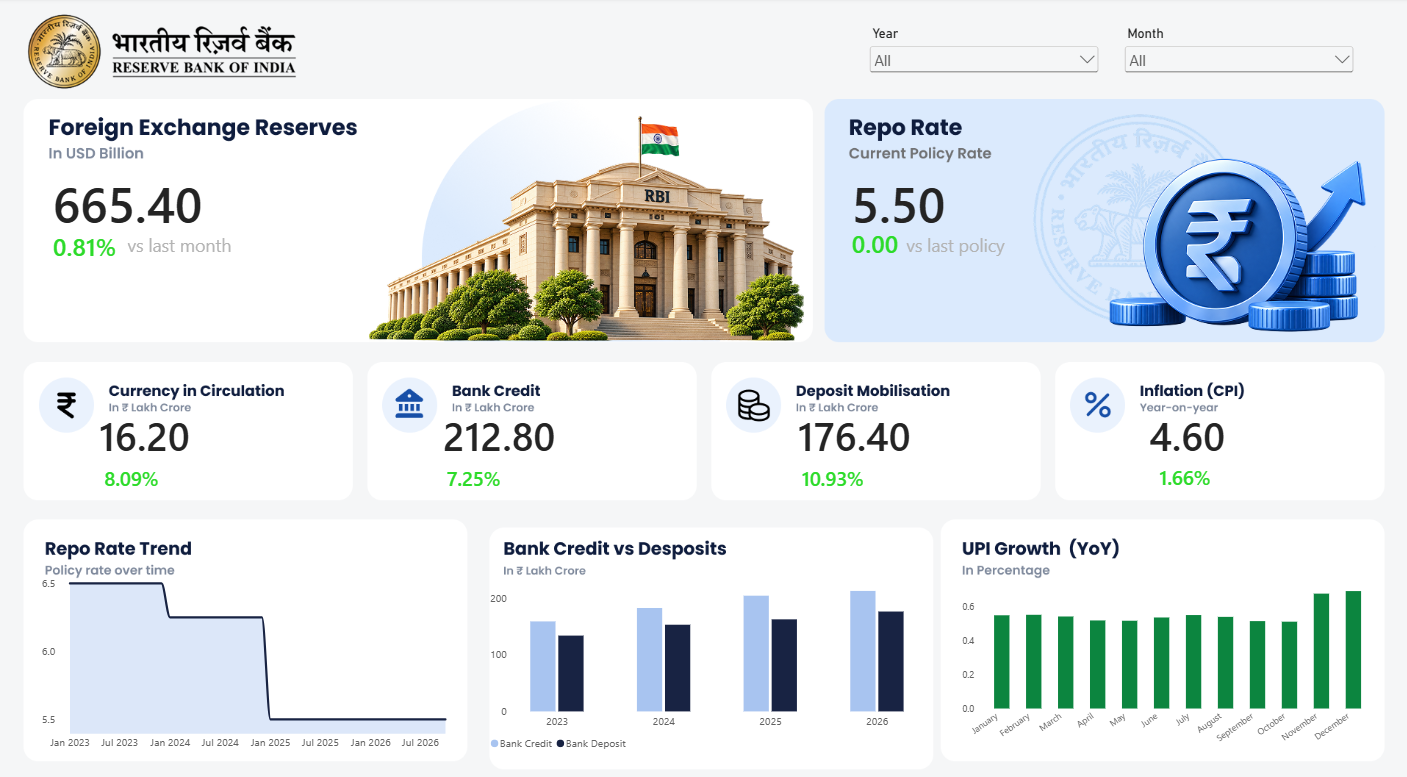

The page's visual inventory and layout, read from the dashboard file:
{"tool":"powerbi","page":{"name":"Page 1","canvas":[1920,1080],"ordinal":0},"visuals":[{"type":"areaChart","fields":{"Category":["Calendar.YearMonth.Variation.Date Hierarchy.Year","Calendar.YearMonth.Variation.Date Hierarchy.Quarter","Calendar.YearMonth.Variation.Date Hierarchy.Month","Calendar.YearMonth.Variation.Date Hierarchy.Day"],"Y":["FactEconomic.Repo Rate"]},"box":[55.8,770.4,576.1,259],"z":0},{"type":"clusteredColumnChart","fields":{"Category":["Calendar.YearMonth.Variation.Date Hierarchy.Year","Calendar.YearMonth.Variation.Date Hierarchy.Quarter","Calendar.YearMonth.Variation.Date Hierarchy.Month"],"Y":["FactEconomic.Bank Credit","FactEconomic.Bank Deposit"]},"box":[667.7,770.4,584.7,259.7],"z":1000},{"type":"columnChart","fields":{"Category":["Calendar.YearMonth.Variation.Date Hierarchy.Year","Calendar.YearMonth.Variation.Date Hierarchy.Month"],"Y":["FactEconomic.UPI Growth YOY%"]},"box":[1305.8,797.7,564.2,233.5],"z":2000},{"type":"cardVisual","fields":{"Data":["FactEconomic.Forex Reserves"]},"box":[55.4,223.8,277.1,110.8],"z":3000},{"type":"cardVisual","fields":{"Data":["FactEconomic.Repo Rate"]},"box":[1142.5,223.8,277.1,110.8],"z":4000},{"type":"cardVisual","fields":{"Data":["FactEconomic.Forex Reserves MOM%"]},"box":[56,297,177.5,80.3],"z":5000},{"type":"cardVisual","fields":{"Data":["FactEconomic.Repo Rate Change"]},"box":[1143.3,295.2,177.5,80.3],"z":6000},{"type":"cardVisual","fields":{"Data":["FactEconomic.Currency Circulation"]},"box":[119.6,540.8,277.1,110.8],"z":7000},{"type":"cardVisual","fields":{"Data":["FactEconomic.Bank Credit"]},"box":[586.6,540.8,277.1,110.8],"z":8000},{"type":"cardVisual","fields":{"Data":["FactEconomic.Bank Deposit"]},"box":[1070.4,540.8,277.1,110.8],"z":9000},{"type":"cardVisual","fields":{"Data":["FactEconomic.Inflation CPI"]},"box":[1548.6,540.8,277.1,110.8],"z":10000},{"type":"cardVisual","fields":{"Data":["FactEconomic.Currency Circulation YOY%"]},"box":[125.9,614.2,177.5,80.3],"z":11000},{"type":"cardVisual","fields":{"Data":["FactEconomic.Bank Credit YOY%"]},"box":[592.1,624.4,149.4,59.8],"z":12000},{"type":"cardVisual","fields":{"Data":["FactEconomic.Bank Deposit YOY%"]},"box":[1075.2,614.2,177.5,80.3],"z":13000},{"type":"cardVisual","fields":{"Data":["FactEconomic.Inflation MOM Change"]},"box":[1561.8,612.5,168.1,82.2],"z":14000},{"type":"slicer","fields":{"Values":["Calendar.Month"]},"box":[1526.2,39.2,321.3,71],"z":15000},{"type":"slicer","fields":{"Values":["Calendar.Date.Variation.Date Hierarchy.Year"]},"box":[1178.8,39.2,321.3,71],"z":15001},{"type":"textbox","box":[174.2,321.6,259,55.8],"z":15002},{"type":"textbox","box":[1232.7,321.6,259,55.8],"z":15003}]}

Visuals, with their boxes in screenshot pixels (x1, y1, x2, y2), scaled from the page's 1920x1080 canvas onto the 1407x777 screenshot:
areaChart - Calendar.YearMonth.Variation.Date Hierarchy.Year x Calendar.YearMonth.Variation.Date Hierarchy.Quarter: rect(41, 554, 463, 741)
clusteredColumnChart - Calendar.YearMonth.Variation.Date Hierarchy.Year x Calendar.YearMonth.Variation.Date Hierarchy.Quarter: rect(489, 554, 918, 741)
columnChart - Calendar.YearMonth.Variation.Date Hierarchy.Year x Calendar.YearMonth.Variation.Date Hierarchy.Month: rect(957, 574, 1370, 742)
cardVisual - FactEconomic.Forex Reserves: rect(41, 161, 244, 241)
cardVisual - FactEconomic.Repo Rate: rect(837, 161, 1040, 241)
cardVisual - FactEconomic.Forex Reserves MOM%: rect(41, 214, 171, 271)
cardVisual - FactEconomic.Repo Rate Change: rect(838, 212, 968, 270)
cardVisual - FactEconomic.Currency Circulation: rect(88, 389, 291, 469)
cardVisual - FactEconomic.Bank Credit: rect(430, 389, 633, 469)
cardVisual - FactEconomic.Bank Deposit: rect(784, 389, 987, 469)
cardVisual - FactEconomic.Inflation CPI: rect(1135, 389, 1338, 469)
cardVisual - FactEconomic.Currency Circulation YOY%: rect(92, 442, 222, 500)
cardVisual - FactEconomic.Bank Credit YOY%: rect(434, 449, 543, 492)
cardVisual - FactEconomic.Bank Deposit YOY%: rect(788, 442, 918, 500)
cardVisual - FactEconomic.Inflation MOM Change: rect(1145, 441, 1268, 500)
slicer - Calendar.Month: rect(1118, 28, 1354, 79)
slicer - Calendar.Date.Variation.Date Hierarchy.Year: rect(864, 28, 1099, 79)
textbox: rect(128, 231, 317, 272)
textbox: rect(903, 231, 1093, 272)
